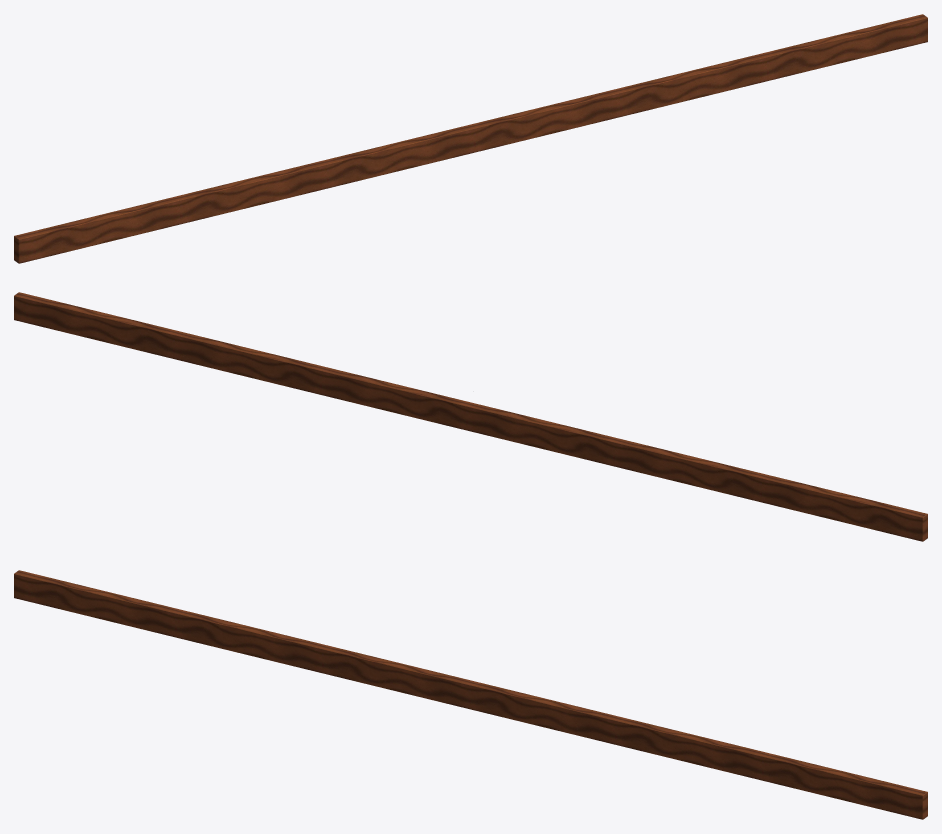
File: COB-MAD-004_anim.glb
The picture shows the model from 3 angles, top to bottom: view 1: azimuth 30°, elevation 25°; view 2: azimuth 150°, elevation 25°; view 3: azimuth 330°, elevation 25°; orthographic projection.
Visible parts, largest first — view 1: COB-MAD-004_anim0; view 2: COB-MAD-004_anim0; view 3: COB-MAD-004_anim0.
Boxes of the visible parts, x1,y1,x2,y2 form: COB-MAD-004_anim0: (14,14,927,263); COB-MAD-004_anim0: (14,292,927,541); COB-MAD-004_anim0: (14,570,927,819).
Size of the model in its own units: 6.2 by 0.2357 by 0.062.
2 materials, 2 textured.
